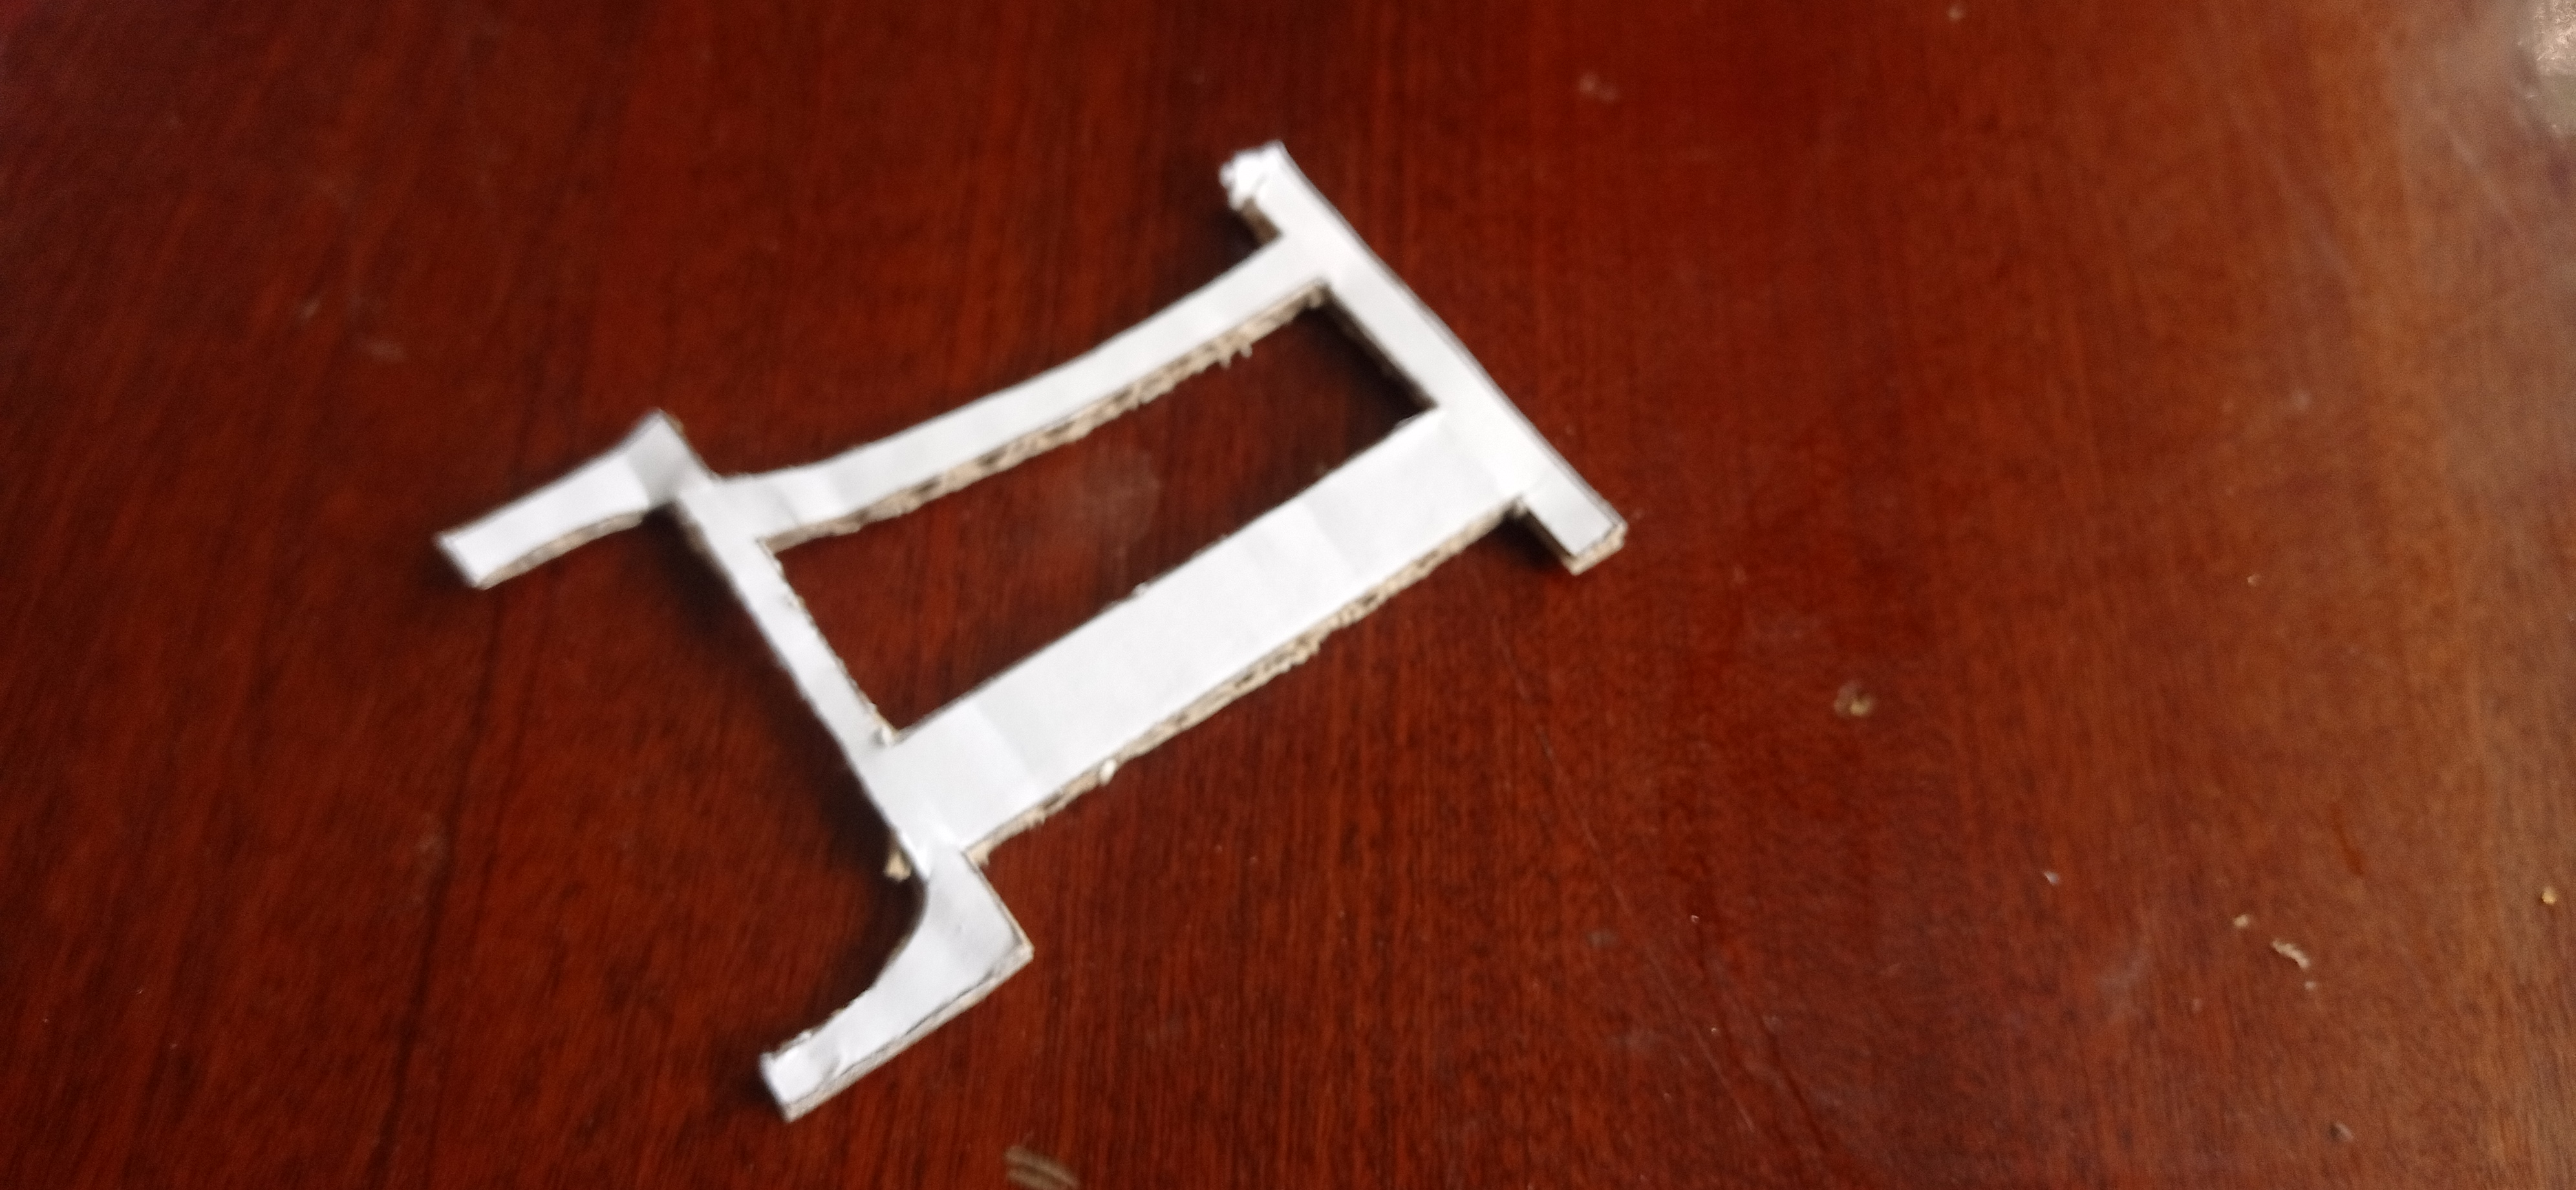d: (442, 141, 1623, 1118)
